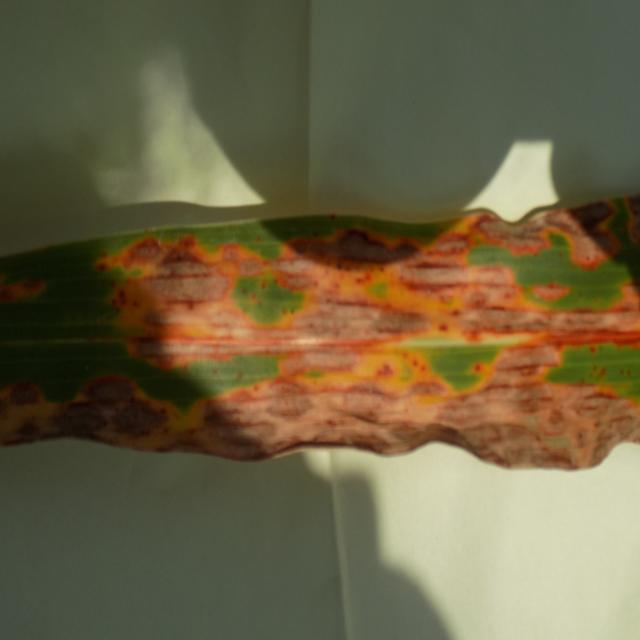millet_rust: (0, 194, 640, 477)
